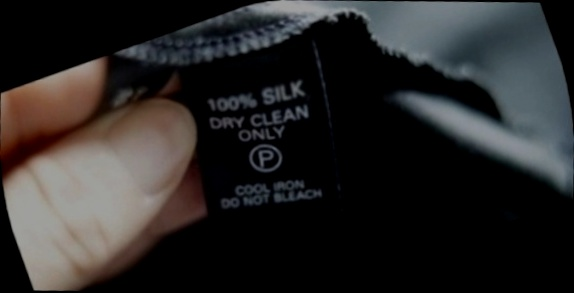dry_clean_any_solvent_except_trichloroethylene: (238, 129, 295, 185)
